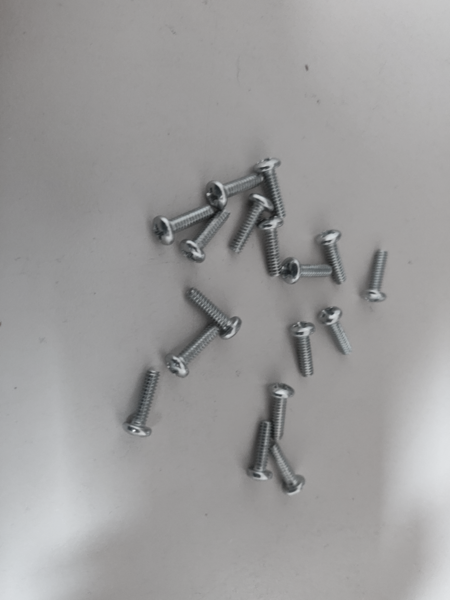shortscrew: (185, 288, 243, 342), (166, 326, 220, 378), (180, 209, 231, 264), (229, 194, 274, 254), (153, 203, 214, 246), (123, 370, 161, 438), (206, 174, 265, 209), (270, 443, 307, 497), (254, 157, 287, 217), (316, 230, 348, 286), (318, 307, 353, 356), (268, 383, 296, 442), (247, 421, 274, 482), (258, 217, 284, 278), (362, 249, 389, 303), (281, 257, 333, 284), (291, 322, 316, 377)
